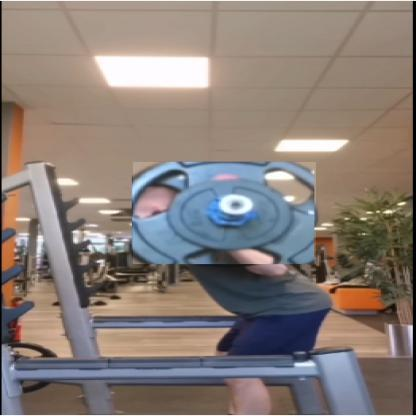barbell: (134, 163, 318, 266)
